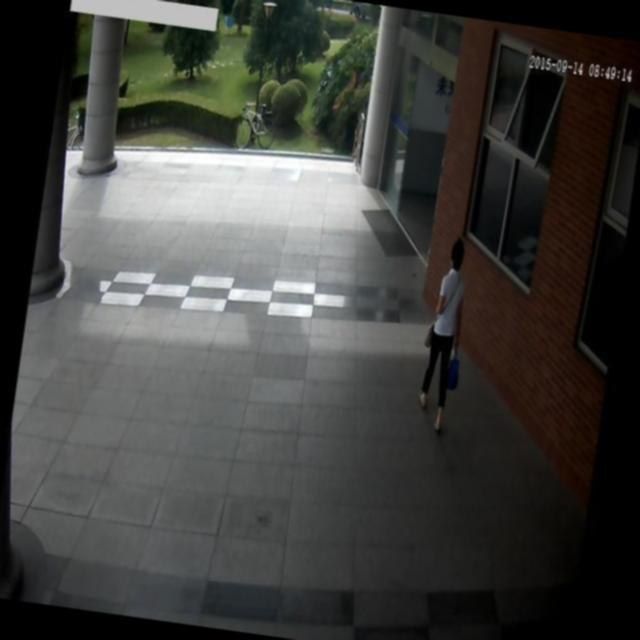person: (409, 231, 484, 444)
